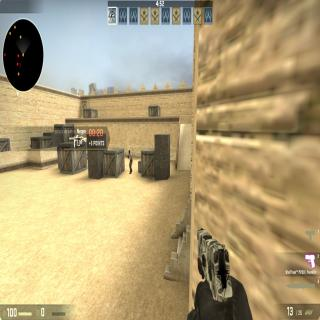T-Body: (128, 148, 132, 174)
T-Head: (128, 148, 131, 154)
